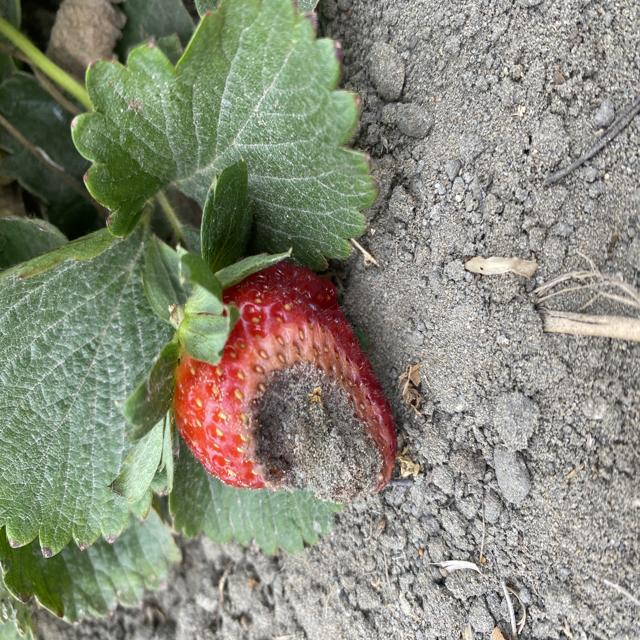Botrytis: (173, 261, 397, 500)
